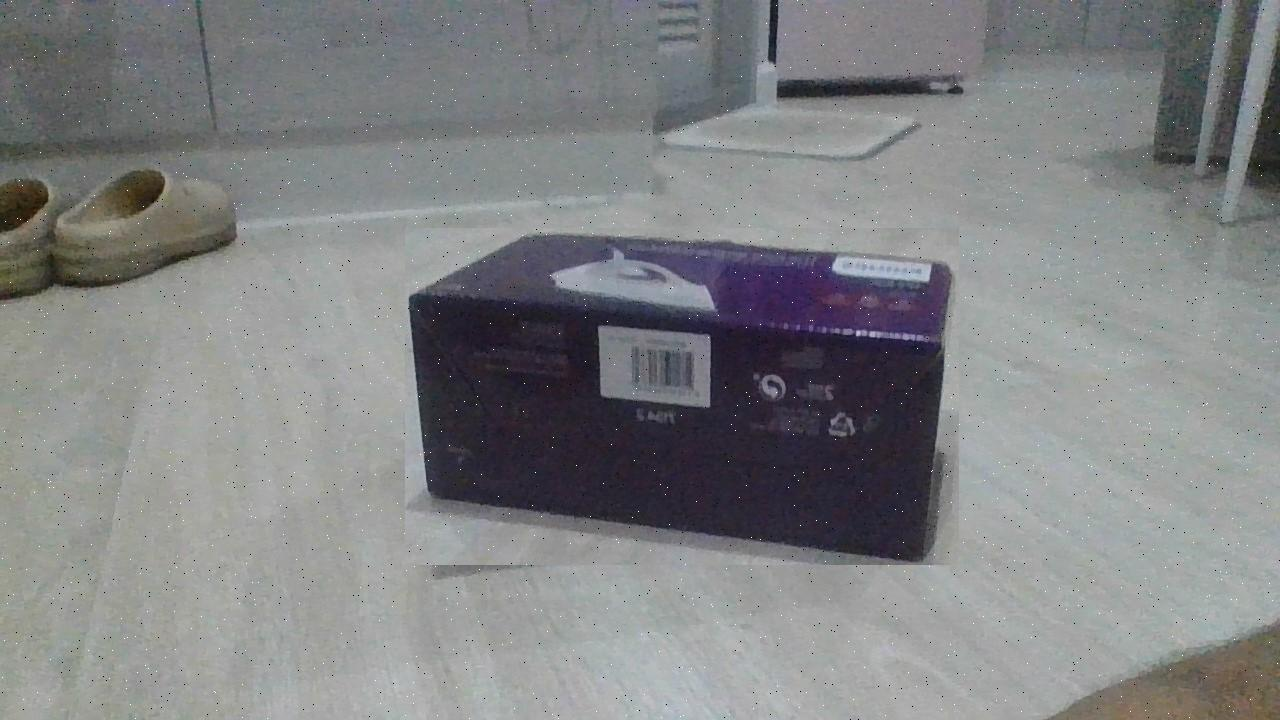IRON: (405, 228, 959, 565)
